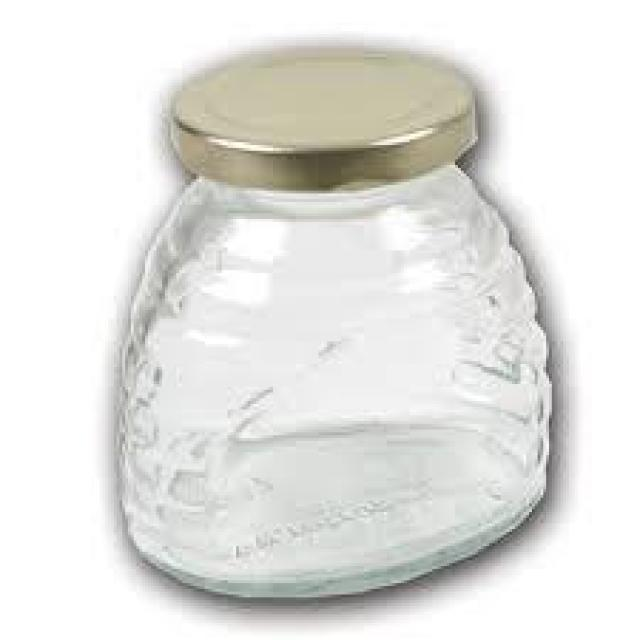Glass: (111, 41, 562, 604)
